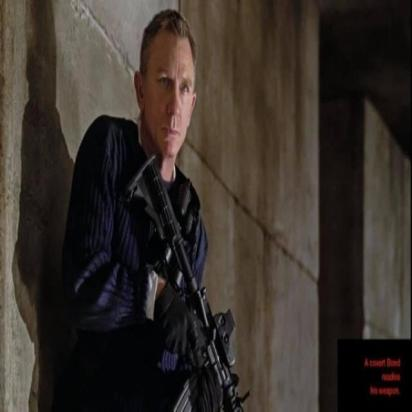Gun: (125, 145, 250, 412)
